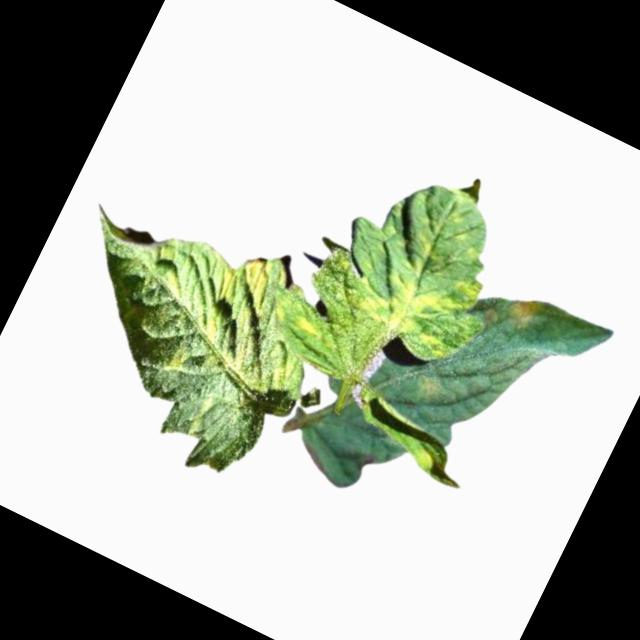Leaf_Mold: (339, 162, 530, 374), (187, 241, 303, 369), (501, 288, 543, 331), (287, 304, 331, 344), (412, 365, 450, 404), (163, 339, 196, 376)
